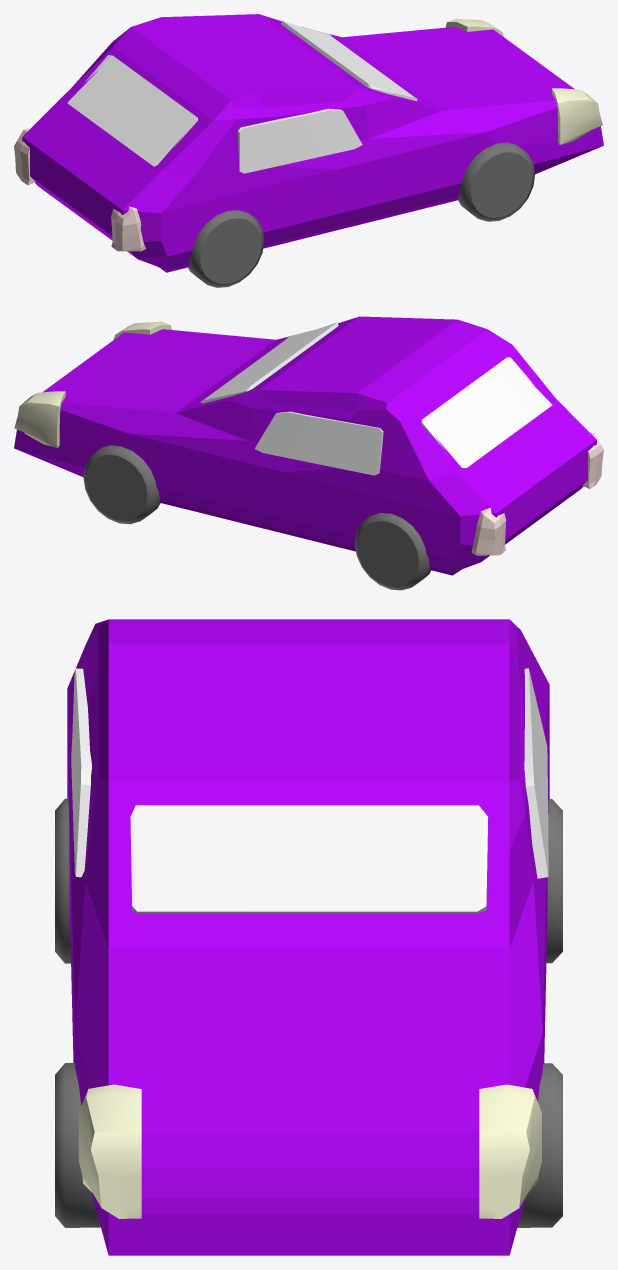
Rendered from CarroMorado.fbx.
3 renders of one model, top to bottom at view 1: azimuth 30°, elevation 25°; view 2: azimuth 150°, elevation 25°; view 3: azimuth 270°, elevation 25°, orthographic. The views are drawn at different scales.
Parts seen in each view (by area): view 1: pCube1, pCube10, pCube8, pCylinder1, pCylinder2, pCube9, pCube6, pCube11; view 2: pCube1, pCube10, pCube12, pCylinder3, pCylinder4, pCube9, pCube6, pCube11; view 3: pCube1, pCube6, pCube9, pCylinder1, pCylinder3, pCube12, pCube8, pCylinder4, pCylinder2.
Part boxes in pixels (<box>): pCube1: <box>22,14,603,272</box>; pCube10: <box>67,55,197,166</box>; pCube8: <box>237,108,362,173</box>; pCylinder1: <box>458,142,534,221</box>; pCylinder2: <box>188,210,264,287</box>; pCube9: <box>445,18,602,144</box>; pCube6: <box>281,20,417,101</box>; pCube11: <box>14,128,145,251</box>; pCube1: <box>14,316,596,575</box>; pCube10: <box>421,357,552,468</box>; pCube12: <box>254,411,383,475</box>; pCylinder3: <box>83,445,160,524</box>; pCylinder4: <box>355,513,431,590</box>; pCube9: <box>14,321,171,447</box>; pCube6: <box>200,322,338,403</box>; pCube11: <box>471,433,603,555</box>; pCube1: <box>67,619,549,1255</box>; pCube6: <box>130,805,488,913</box>; pCube9: <box>78,1084,541,1218</box>; pCylinder1: <box>55,1063,100,1227</box>; pCylinder3: <box>517,1063,562,1227</box>; pCube12: <box>524,668,548,878</box>; pCube8: <box>71,668,91,877</box>; pCylinder4: <box>546,799,562,963</box>; pCylinder2: <box>55,798,70,963</box>.
Bounding box in the file's own units: 24.46 × 8.56 × 11.09.
